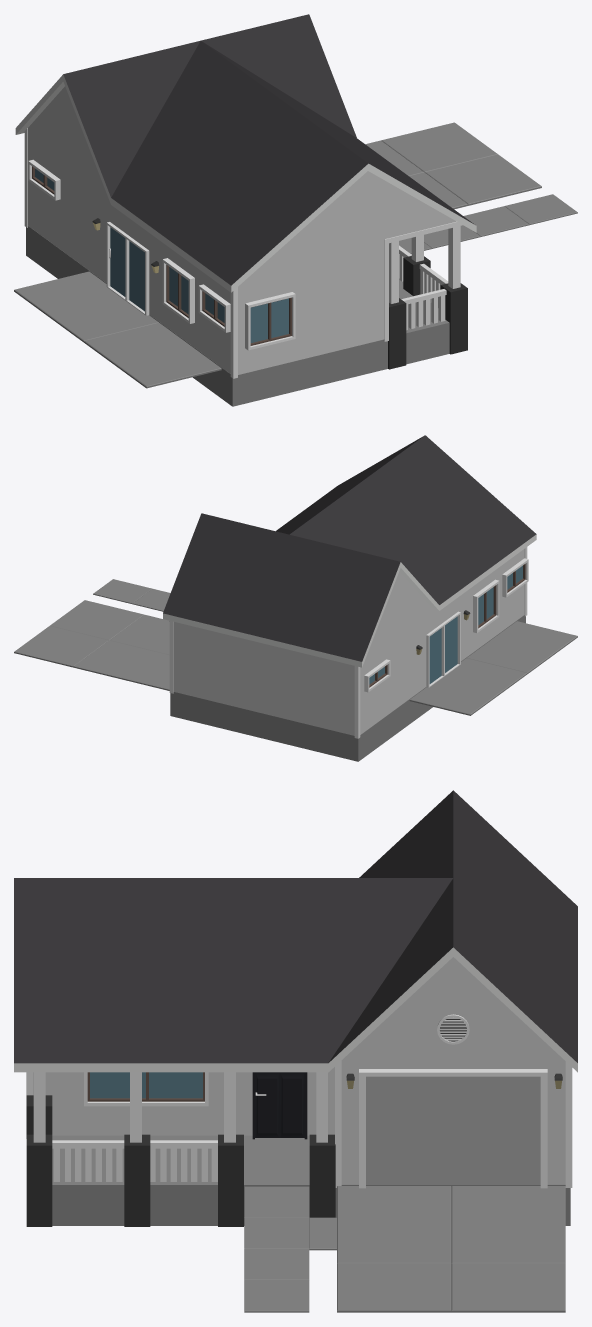
Rendered from Proto_HouseSmall_White.fbx.
The picture shows the model from 3 angles, top to bottom: view 1: azimuth 30°, elevation 25°; view 2: azimuth 150°, elevation 25°; view 3: azimuth 270°, elevation 25°; orthographic projection. The views are drawn at different scales.
Visible parts, largest first — view 1: HouseSmall_White; view 2: HouseSmall_White; view 3: HouseSmall_White.
Part boxes in pixels (bbox=[...]): HouseSmall_White: bbox=[14, 14, 577, 406]; HouseSmall_White: bbox=[14, 435, 577, 761]; HouseSmall_White: bbox=[14, 790, 577, 1312].
Size of the model in its own units: 32.35 by 13.28 by 24.02.
